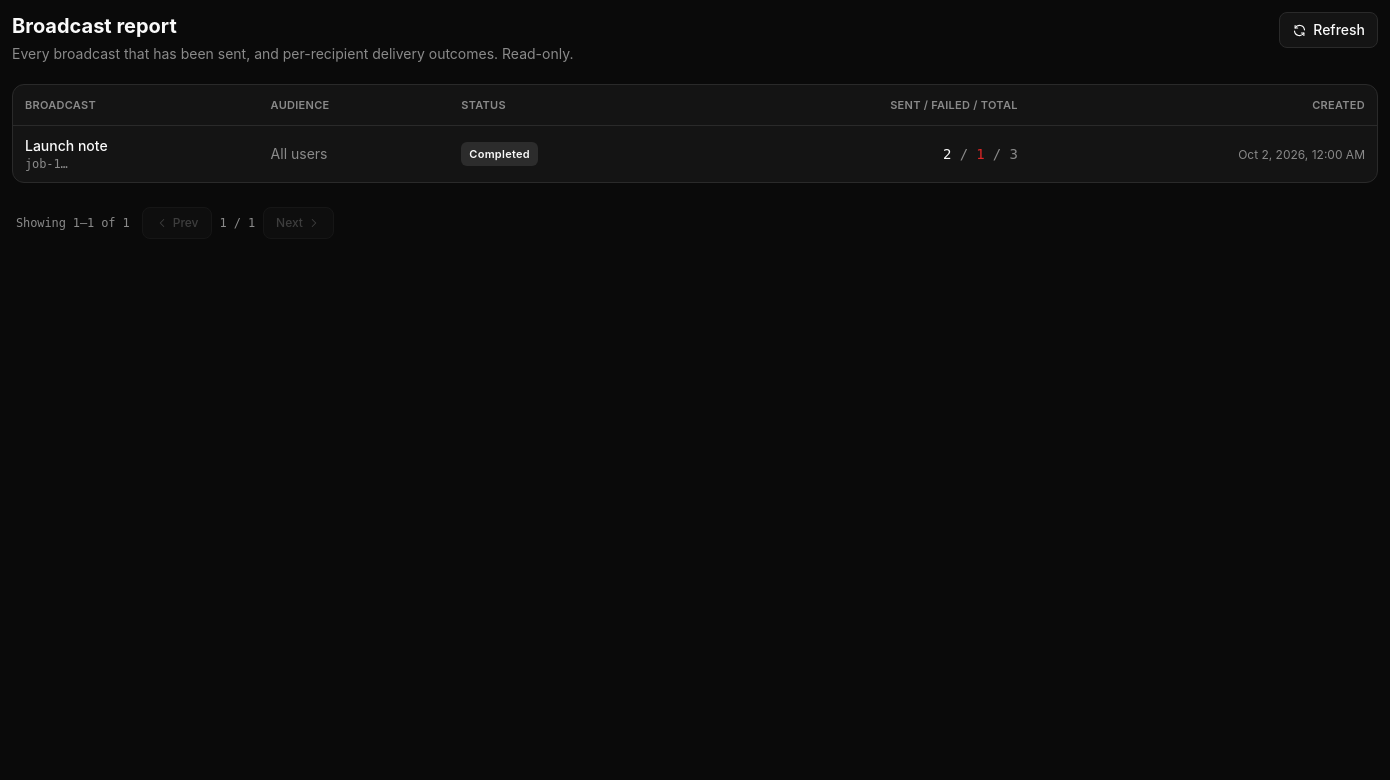
Test: BroadcastReportPage — history › lists broadcasts and opens a job, showing counts and recipients
The width and height of the screenshot is (1390, 780).
Open the detail by clicking the row.
Click the text "Launch note": coordinates (66, 146) [25, 137, 108, 154]
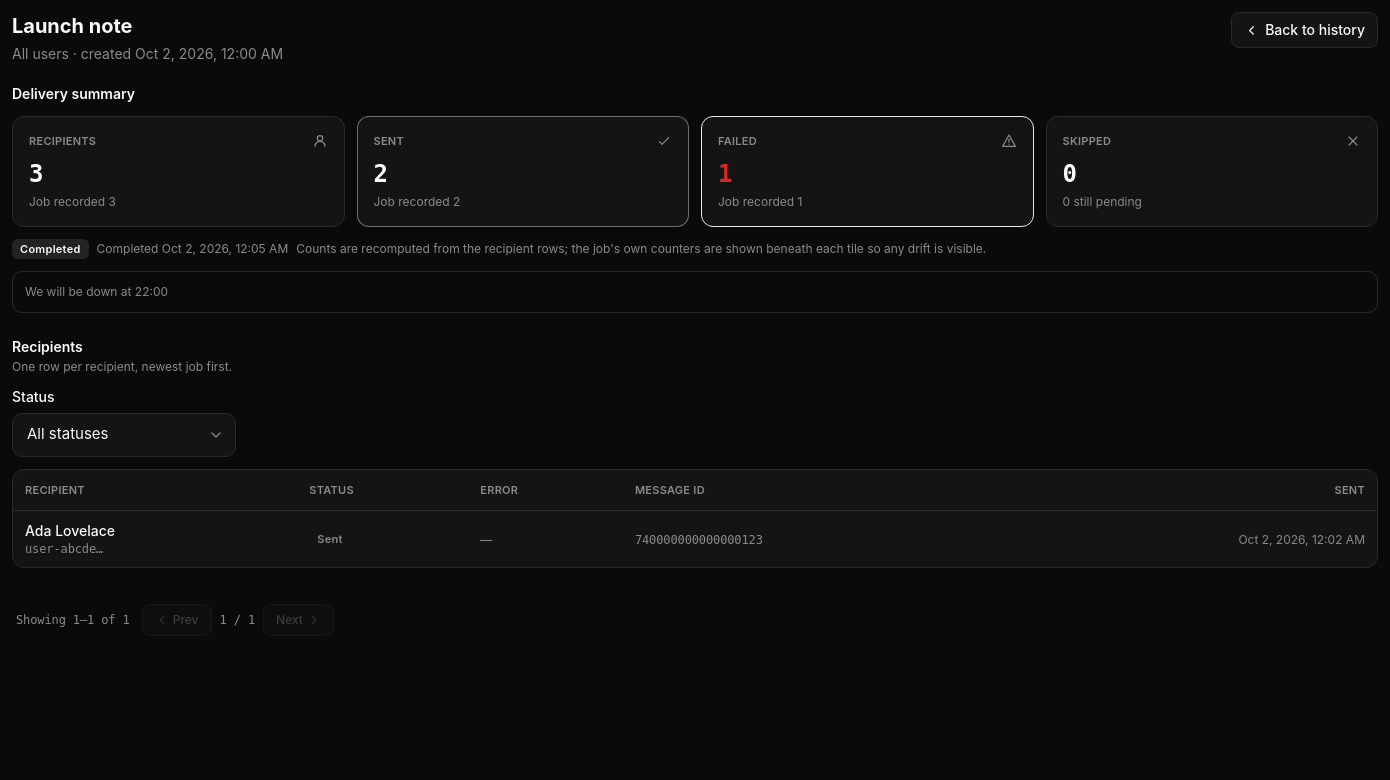
Check: the heading "Delivery summary" is shown, box [12, 84, 135, 104]
Check: the text "Ada Lovelace" is shown, box [25, 522, 115, 538]
Check: the text "740000000000000123" is shown, box [635, 532, 763, 546]
